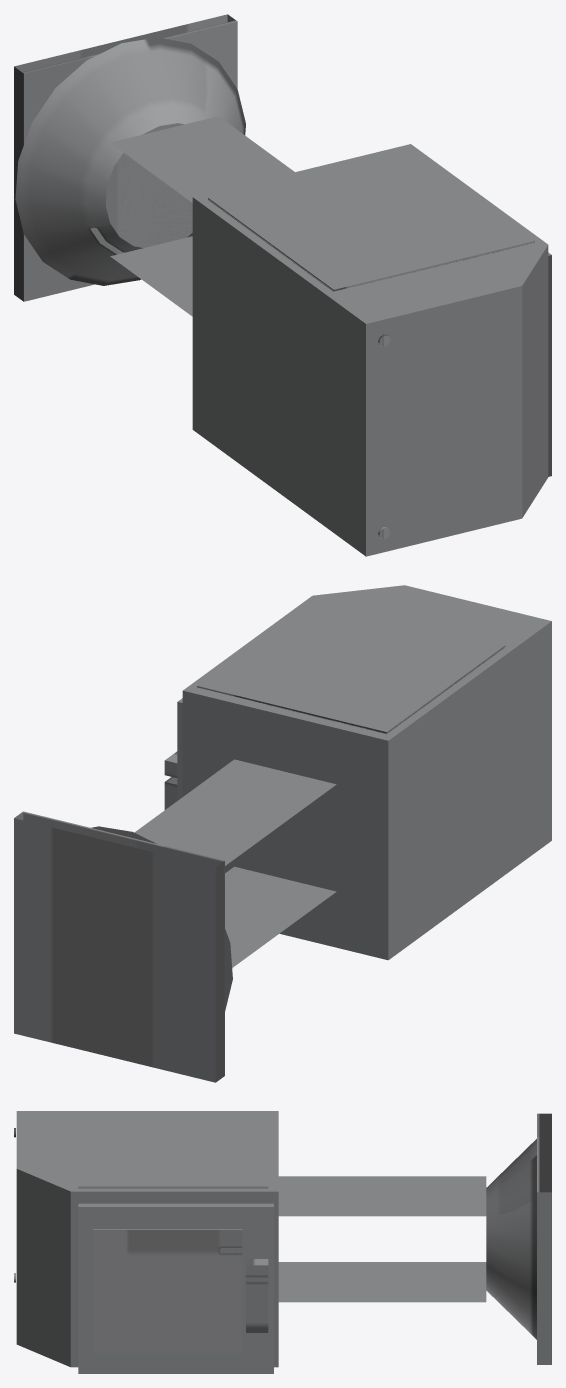
3 renders of one model, top to bottom at view 1: azimuth 30°, elevation 25°; view 2: azimuth 150°, elevation 25°; view 3: azimuth 270°, elevation 25°, orthographic. The views are drawn at different scales.
Size of the model in its own units: 0.5848 by 0.5398 by 1.44.
